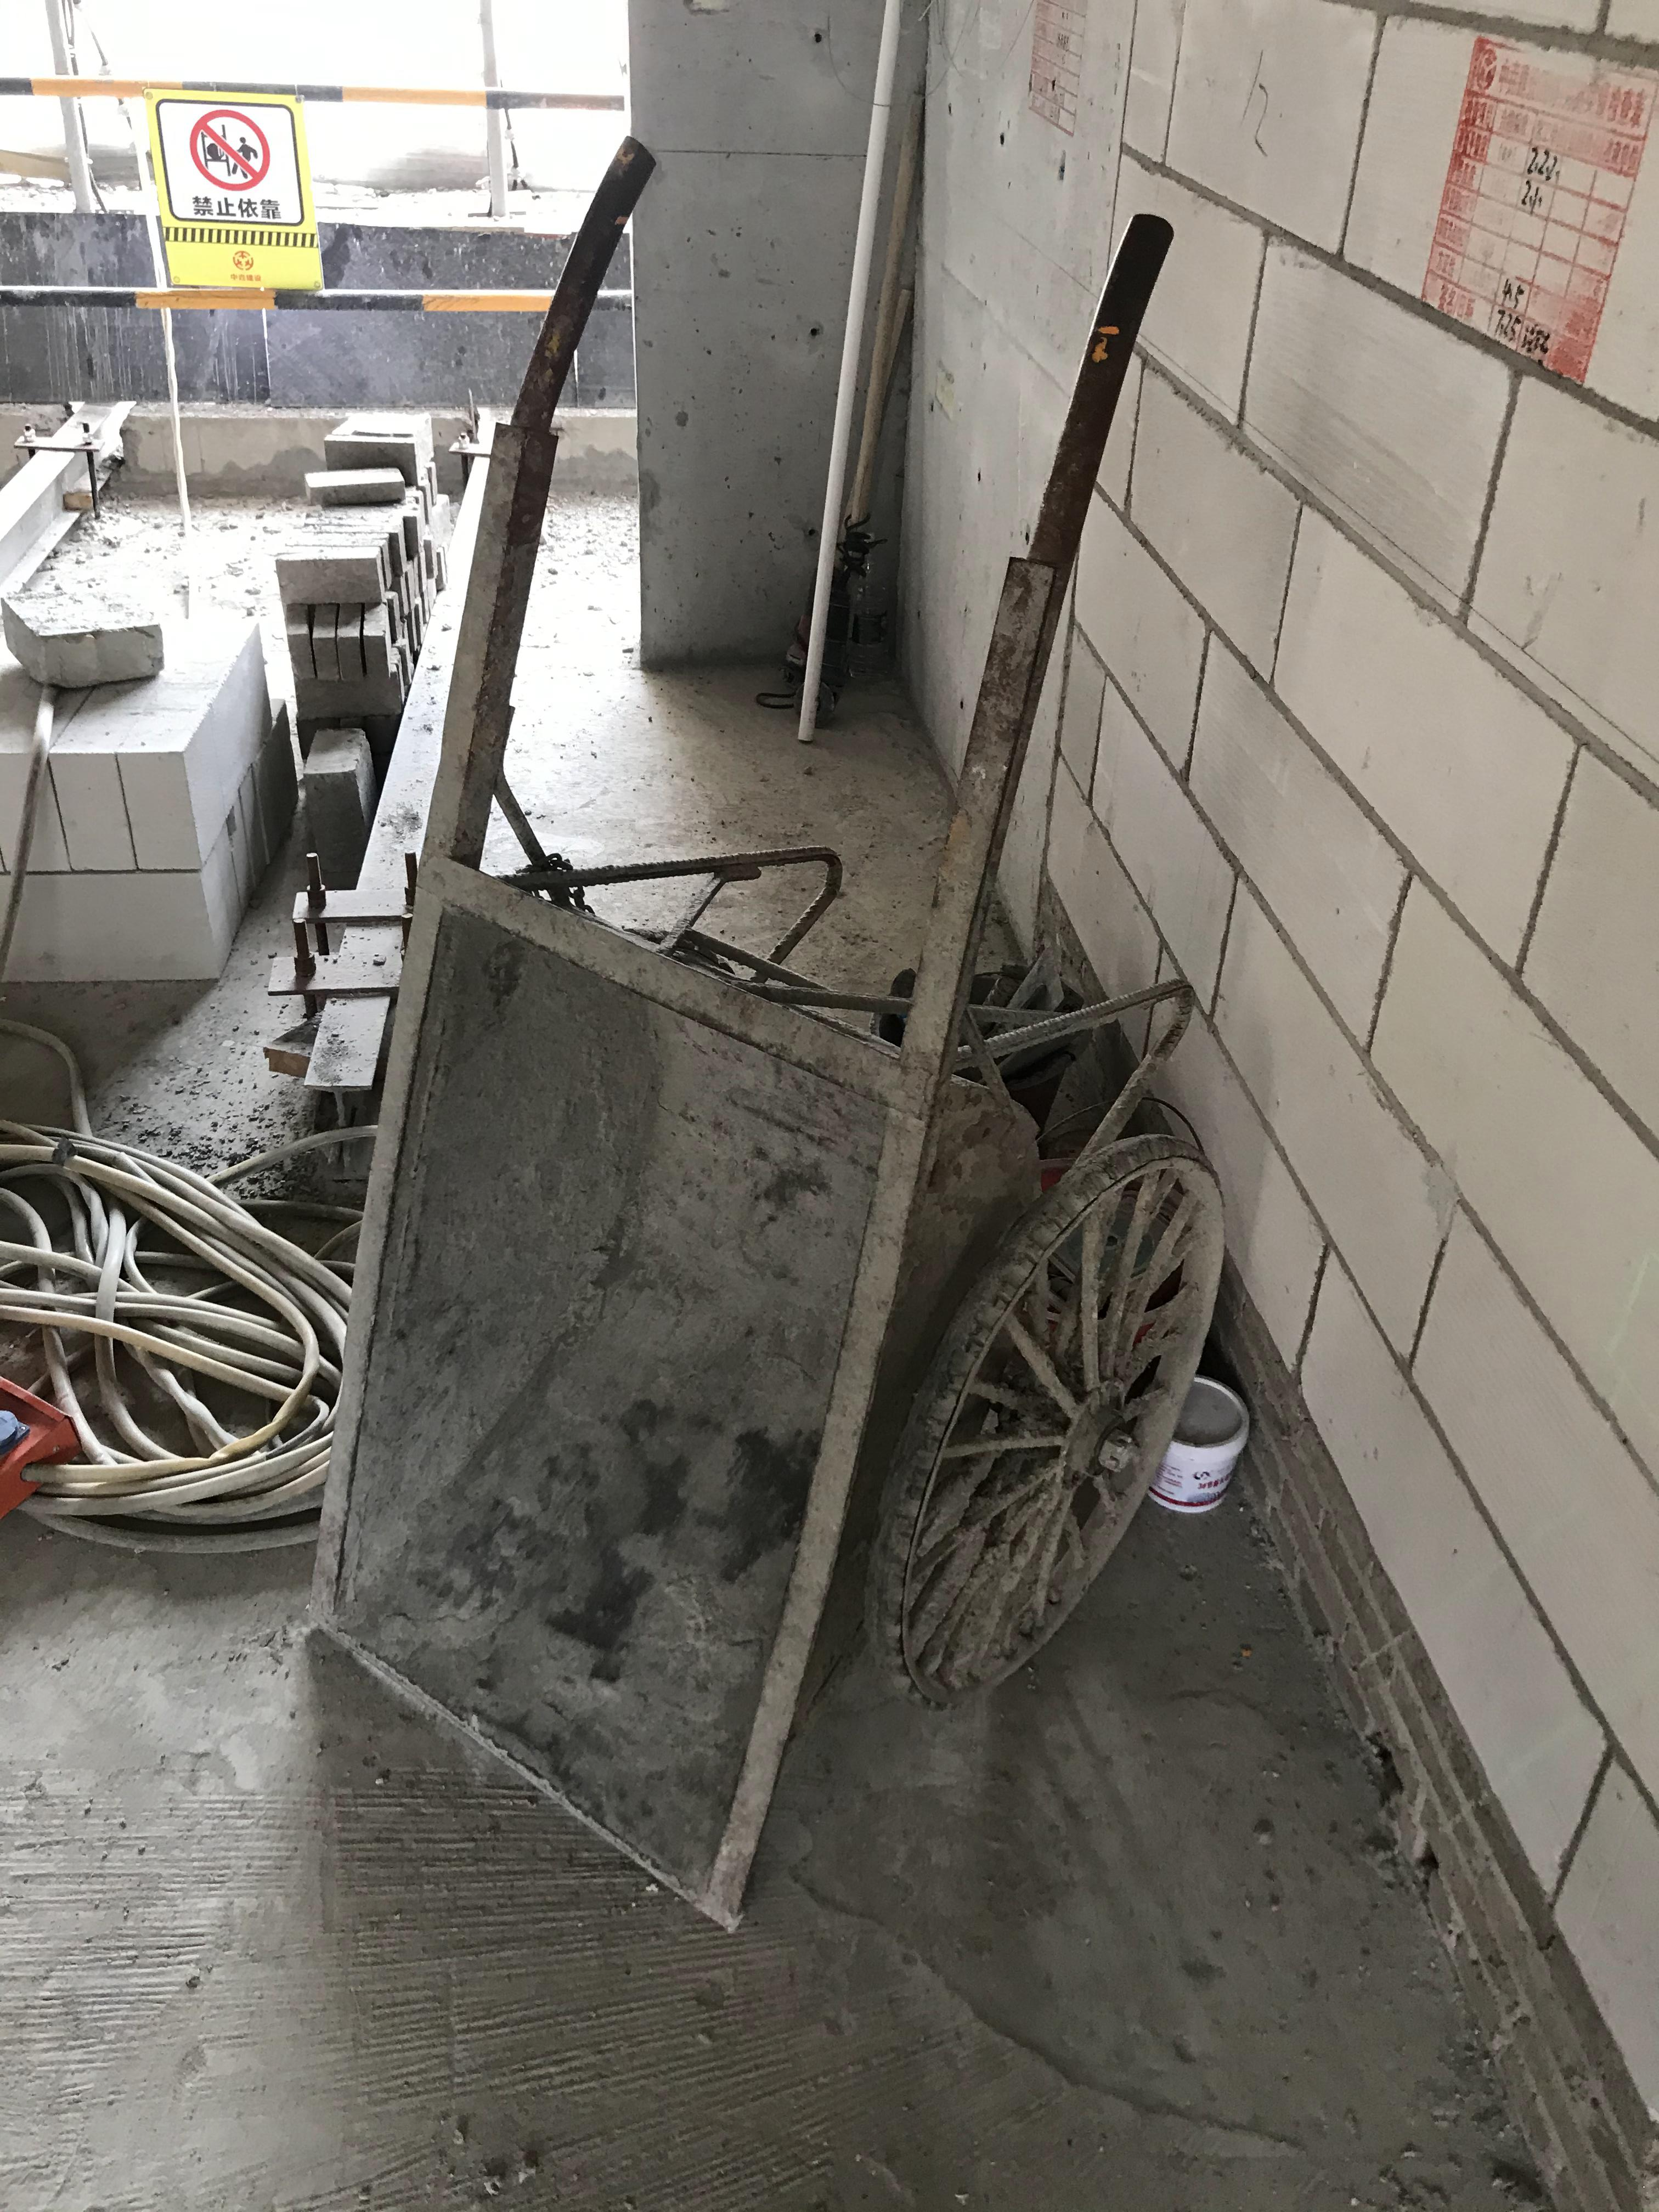handcart: (120, 408, 1659, 1379)
